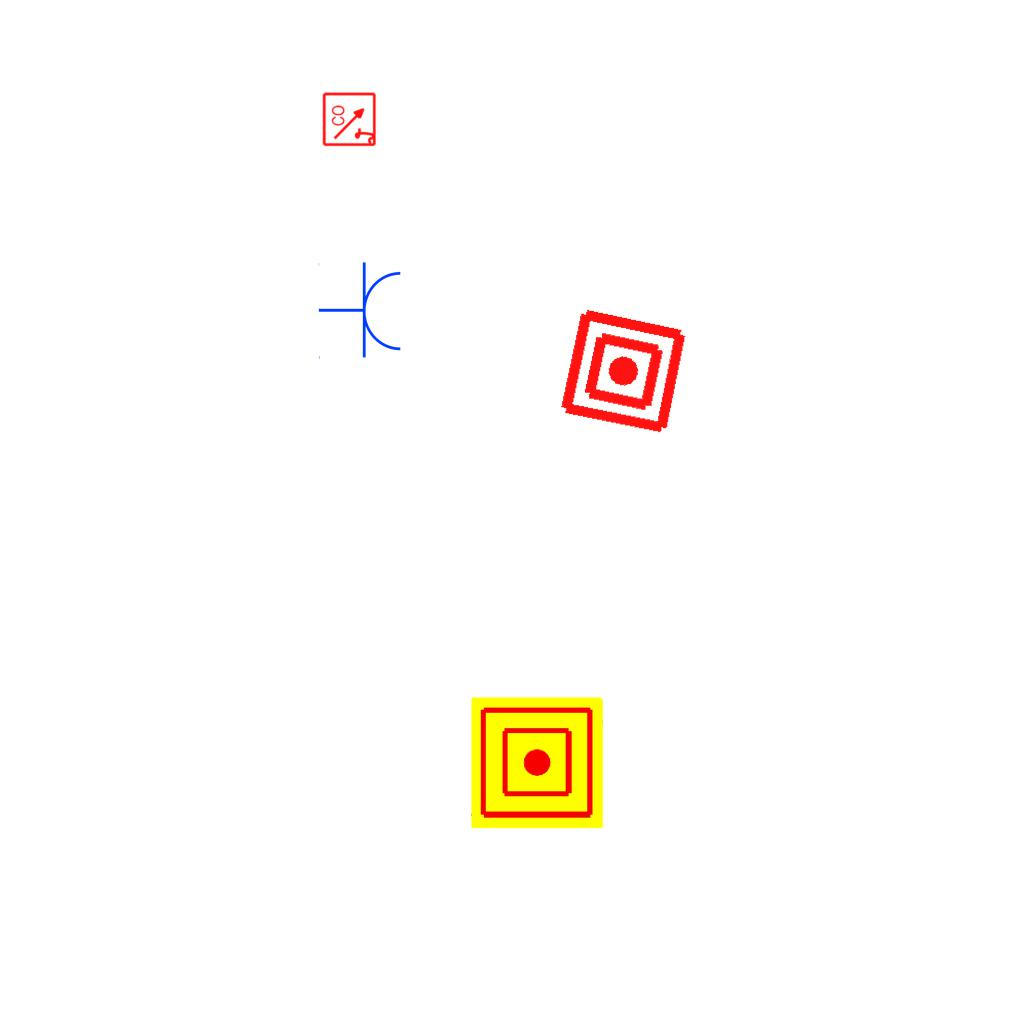NAM-Nichtautomatischer_Melder: (556, 304, 691, 439), (471, 697, 603, 829)
ROA_Rauchmelder_optisch_mit_Signalgeber_(Sockelsirene): (322, 91, 378, 147)
Schukosteckdose_einfach: (318, 261, 405, 361)
